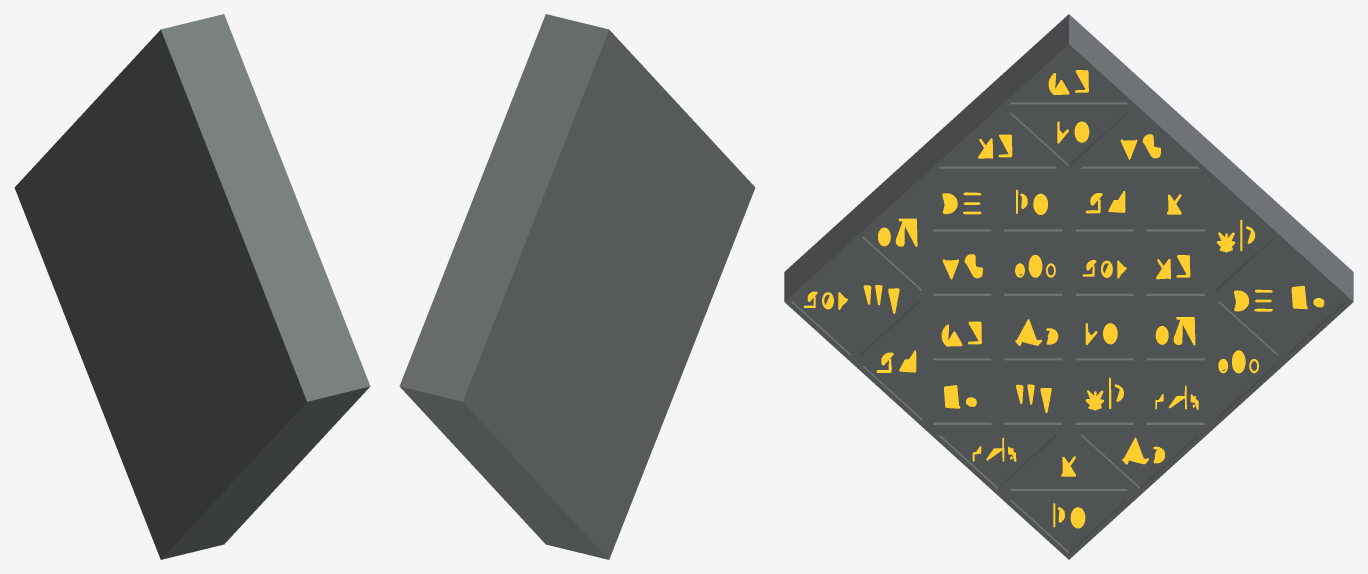
File: alien puzzle with words.fbx
The picture shows the model from 3 angles, left to right: view 1: azimuth 30°, elevation 25°; view 2: azimuth 150°, elevation 25°; view 3: azimuth 270°, elevation 25°; orthographic projection. The views are drawn at different scales.
Parts seen in each view (by area): view 1: Cube.027, Cube.019, Cube.016, Cube.025, Cube.023, Cube.021, Cube.024, Cube.005, Cube.010, Cube.001, Cube.002, Cube.006 (+20 smaller); view 2: Cube.031, Cube.019, Cube.017, Cube.028, Cube.023, Cube.020, Cube.029, Cube.004, Cube.011, Cube, Cube.003, Cube.007 (+20 smaller); view 3: Cube.019, Cube.027, Cube.031, Cube.025, Cube.028, Cube.016, Cube.017, Cube.018, Cube.023, Cube.022, Cube.026, Cube.030 (+20 smaller).
Boxes of the visible parts, x1=… form: Cube.027: x1=270, y1=293, x2=370, y2=440; Cube.019: x1=124, y1=14, x2=260, y2=122; Cube.016: x1=161, y1=107, x2=296, y2=215; Cube.025: x1=234, y1=200, x2=333, y2=347; Cube.023: x1=124, y1=467, x2=260, y2=559; Cube.021: x1=161, y1=428, x2=296, y2=520; Cube.024: x1=234, y1=349, x2=333, y2=480; Cube.005: x1=160, y1=295, x2=197, y2=387; Cube.010: x1=87, y1=109, x2=124, y2=201; Cube.001: x1=160, y1=228, x2=197, y2=320; Cube.002: x1=87, y1=175, x2=124, y2=267; Cube.006: x1=87, y1=241, x2=124, y2=333; Cube.031: x1=399, y1=293, x2=499, y2=440; Cube.019: x1=509, y1=14, x2=645, y2=122; Cube.017: x1=473, y1=107, x2=608, y2=215; Cube.028: x1=436, y1=200, x2=535, y2=347; Cube.023: x1=509, y1=467, x2=645, y2=559; Cube.020: x1=473, y1=428, x2=608, y2=520; Cube.029: x1=436, y1=349, x2=535, y2=480; Cube.004: x1=572, y1=295, x2=609, y2=387; Cube.011: x1=645, y1=109, x2=682, y2=201; Cube: x1=572, y1=228, x2=609, y2=320; Cube.003: x1=645, y1=175, x2=682, y2=267; Cube.007: x1=645, y1=241, x2=682, y2=333; Cube.019: x1=998, y1=14, x2=1139, y2=108; Cube.027: x1=784, y1=207, x2=855, y2=366; Cube.031: x1=1282, y1=207, x2=1353, y2=366; Cube.025: x1=855, y1=143, x2=926, y2=301; Cube.028: x1=1211, y1=143, x2=1282, y2=301; Cube.016: x1=926, y1=78, x2=1068, y2=172; Cube.017: x1=1069, y1=78, x2=1211, y2=172; Cube.018: x1=998, y1=108, x2=1139, y2=172; Cube.023: x1=998, y1=495, x2=1139, y2=559; Cube.022: x1=998, y1=431, x2=1139, y2=495; Cube.026: x1=855, y1=238, x2=926, y2=365; Cube.030: x1=1211, y1=238, x2=1282, y2=365.
Bounding box in the file's own units: 200 × 1600 × 1600.
